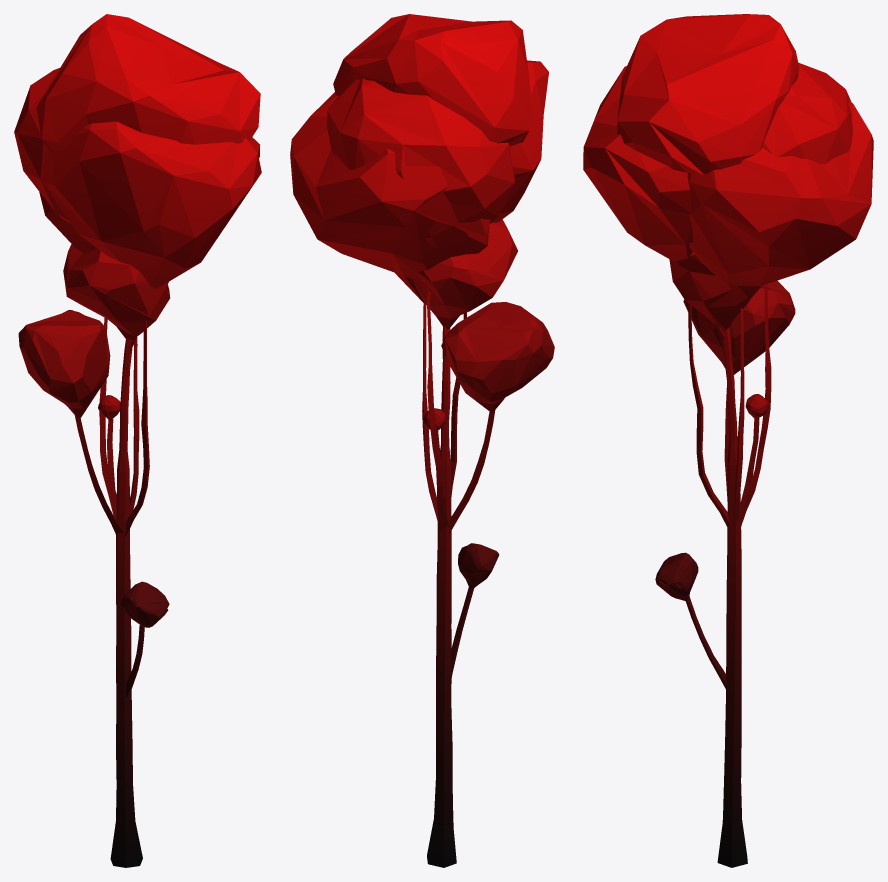
Rendered from TreeBirch03.fbx.
The picture shows the model from 3 angles, left to right: view 1: azimuth 30°, elevation 25°; view 2: azimuth 150°, elevation 25°; view 3: azimuth 270°, elevation 25°; orthographic projection.
Parts seen in each view (by area): view 1: TreeBirch03_LOD0; view 2: TreeBirch03_LOD0; view 3: TreeBirch03_LOD0.
Part boxes in pixels (bbox=[...]): TreeBirch03_LOD0: bbox=[14, 14, 261, 867]; TreeBirch03_LOD0: bbox=[290, 14, 554, 867]; TreeBirch03_LOD0: bbox=[583, 14, 873, 867].
Size of what is drawn, in the model's own units: 276 by 974 by 305.
